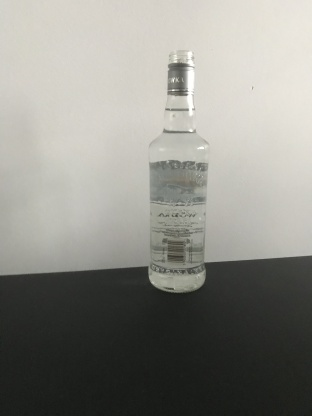nakretka: (165, 47, 196, 97)
